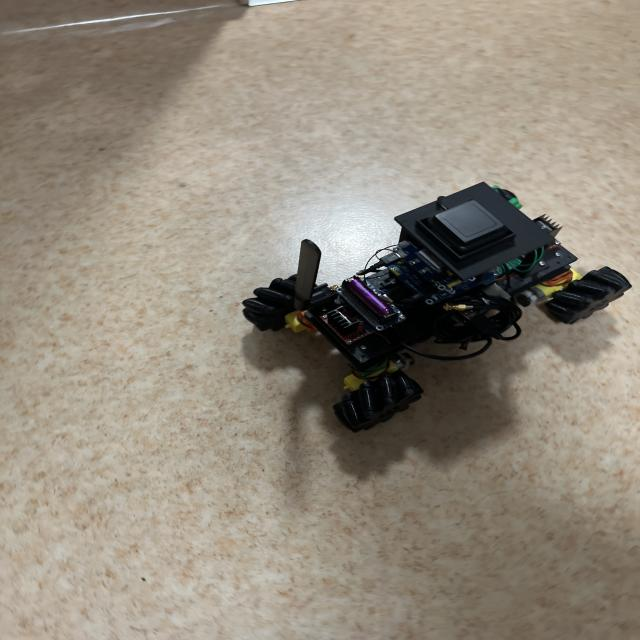robot: (242, 183, 629, 431)
